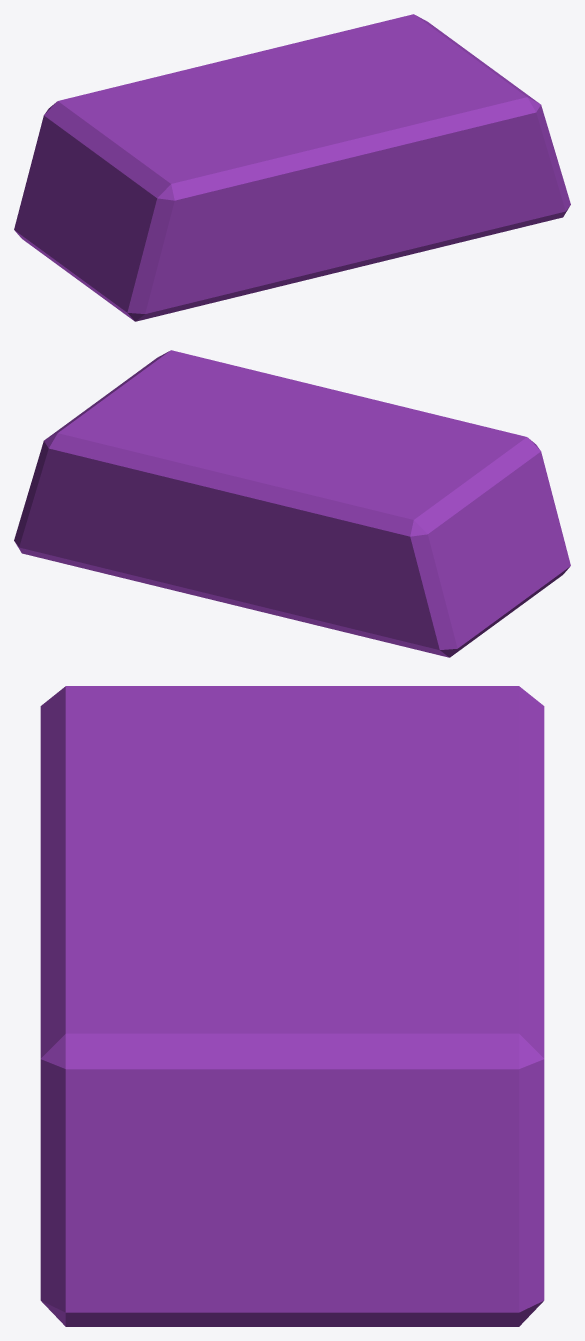
The model's file is CursedIngot.fbx.
The picture shows the model from 3 angles, top to bottom: view 1: azimuth 30°, elevation 25°; view 2: azimuth 150°, elevation 25°; view 3: azimuth 270°, elevation 25°; orthographic projection. The views are drawn at different scales.
Parts seen in each view (by area): view 1: CursedIngot; view 2: CursedIngot; view 3: CursedIngot.
Part boxes in pixels (x1,y1,x2,y2): CursedIngot: (14,14,570,321); CursedIngot: (14,350,570,657); CursedIngot: (40,686,544,1326).
Bounding box in the file's own units: 4.07 × 1.13 × 2.
